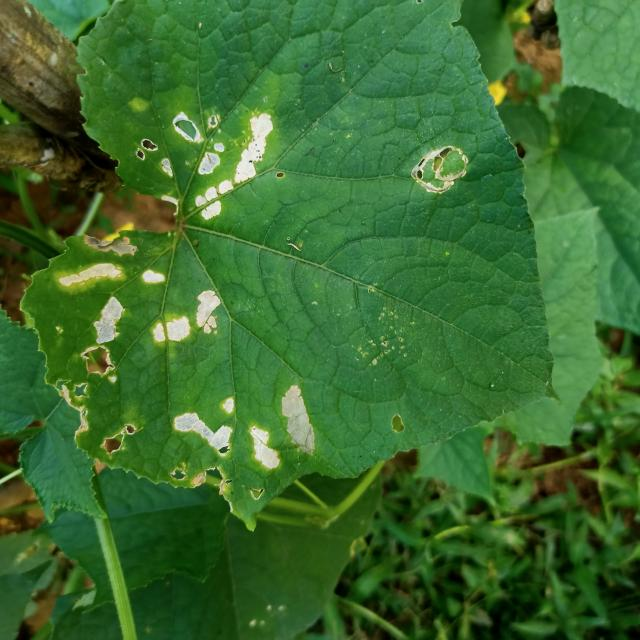disease_cucumber: (129, 99, 278, 228), (40, 235, 139, 417), (140, 265, 226, 351), (249, 382, 319, 475), (167, 396, 240, 475)
